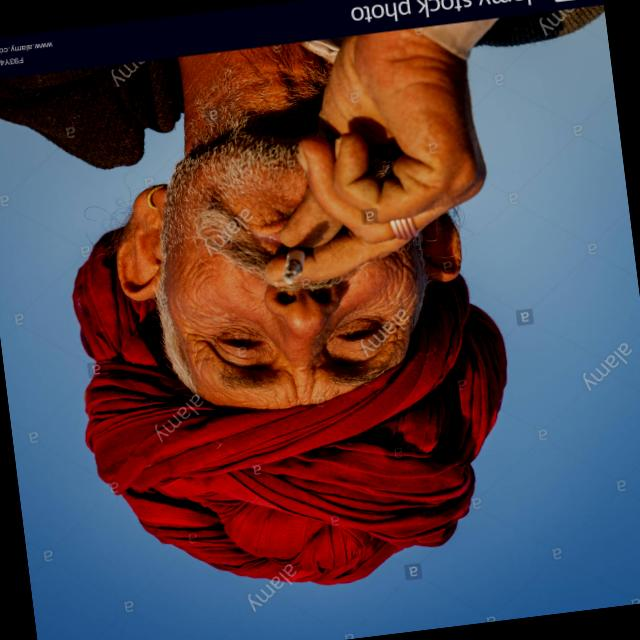cigarette: (277, 244, 310, 286)
